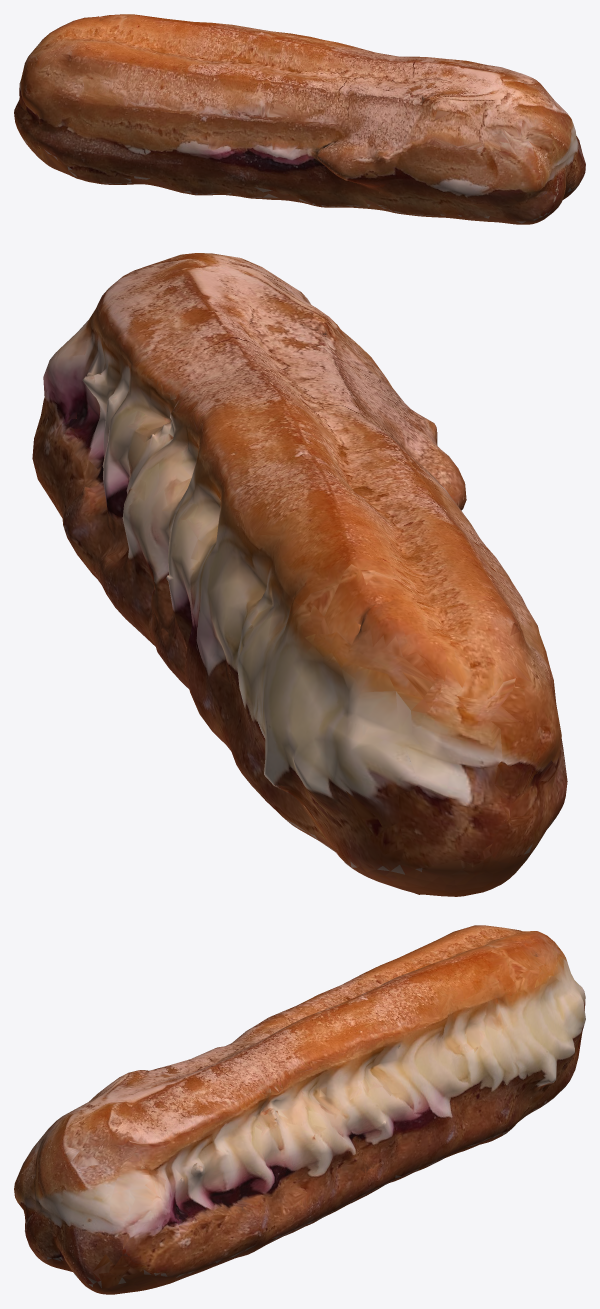
Rendered from eclaire_6540.obj.
The picture shows the model from 3 angles, top to bottom: view 1: azimuth 30°, elevation 25°; view 2: azimuth 150°, elevation 25°; view 3: azimuth 270°, elevation 25°; orthographic projection. The views are drawn at different scales.
Size of the model in its own units: 93.82 by 31.6 by 91.3.
1 material, 1 textured.
